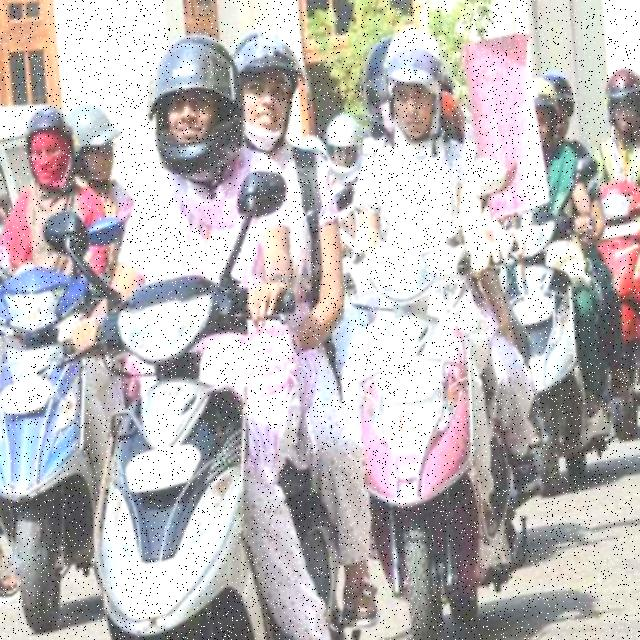not_triplets: (127, 24, 309, 640), (363, 27, 494, 640), (0, 91, 136, 605)
with-helmet: (142, 28, 246, 182), (381, 27, 443, 140), (17, 98, 78, 195), (63, 102, 120, 184), (321, 102, 367, 186), (603, 65, 640, 134)
